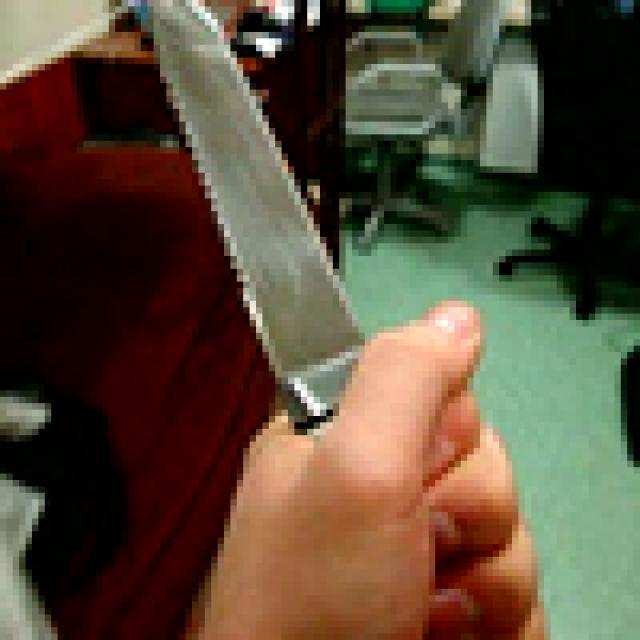knife: (140, 0, 532, 602)
